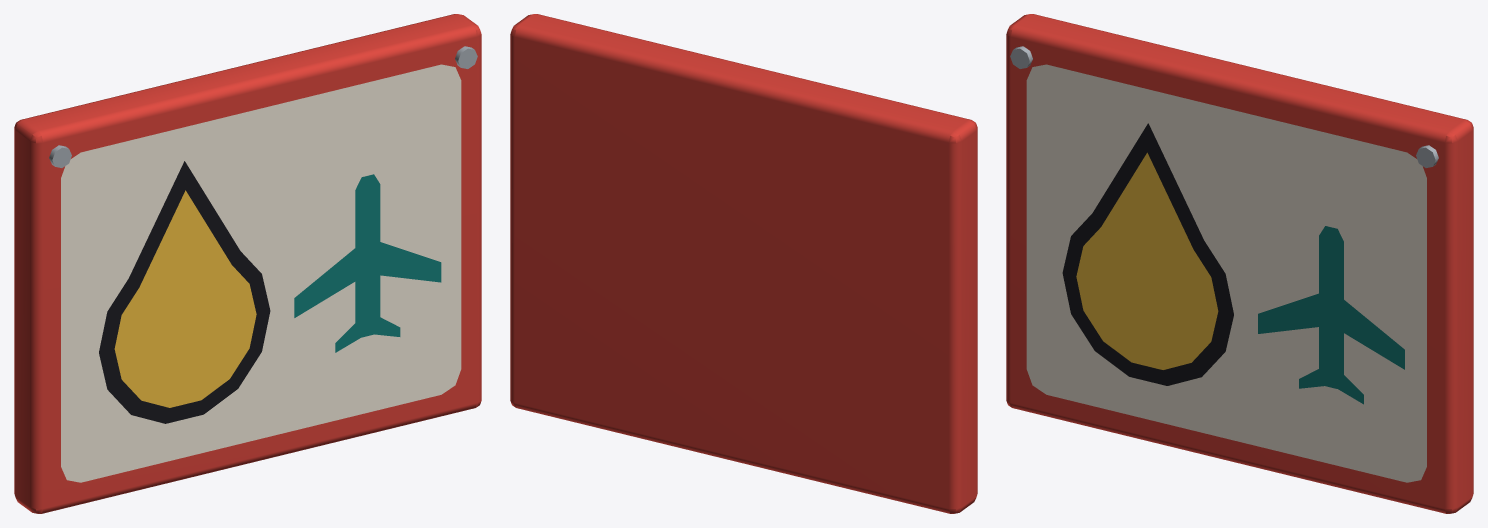
Rendered from CartelCombustible.fbx.
3 views of the same model, side by side, from view 1: azimuth 30°, elevation 25°; view 2: azimuth 150°, elevation 25°; view 3: azimuth 330°, elevation 25° (orthographic).
Visible parts, largest first — view 1: CartelCombustible; view 2: CartelCombustible; view 3: CartelCombustible.
Boxes of the visible parts, bbox=[...] form: CartelCombustible: bbox=[14, 14, 481, 513]; CartelCombustible: bbox=[510, 14, 977, 513]; CartelCombustible: bbox=[1006, 14, 1473, 513].
Bounding box in the file's own units: 3.2 × 2.6 × 0.36.
Materials: 1 (1 with a texture image).
